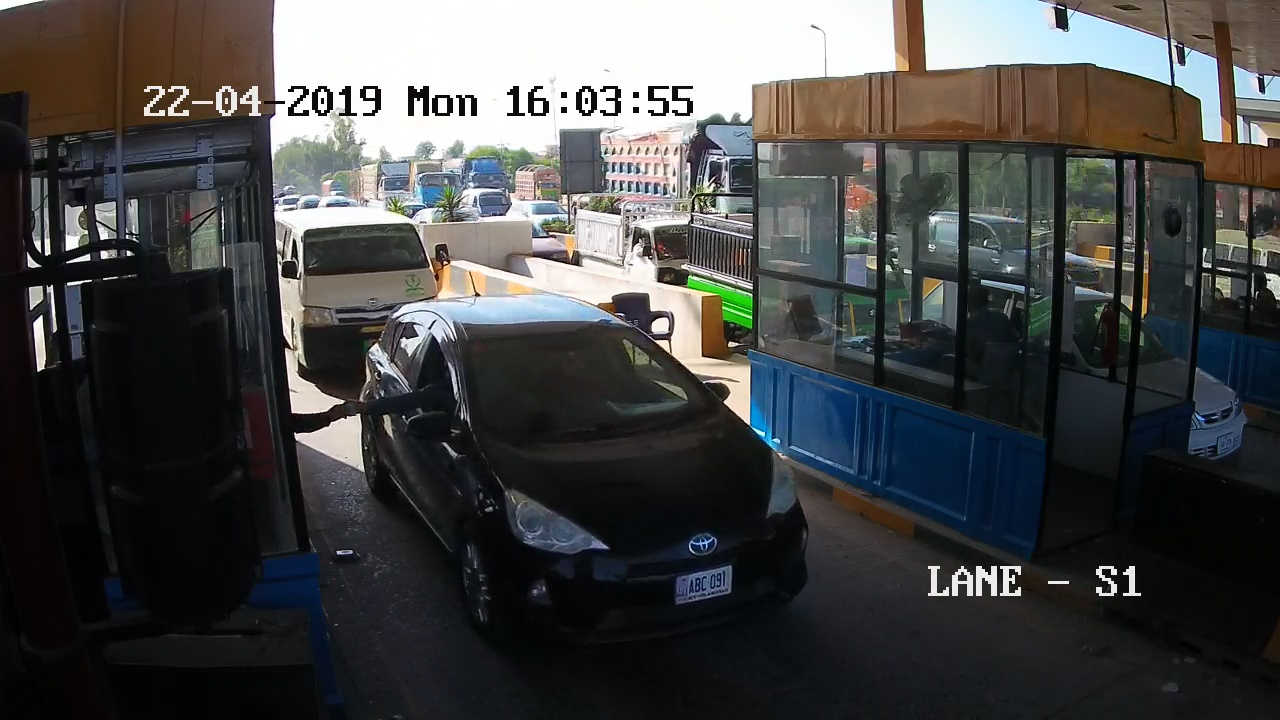Number Plate (Car): (675, 567, 737, 603)
